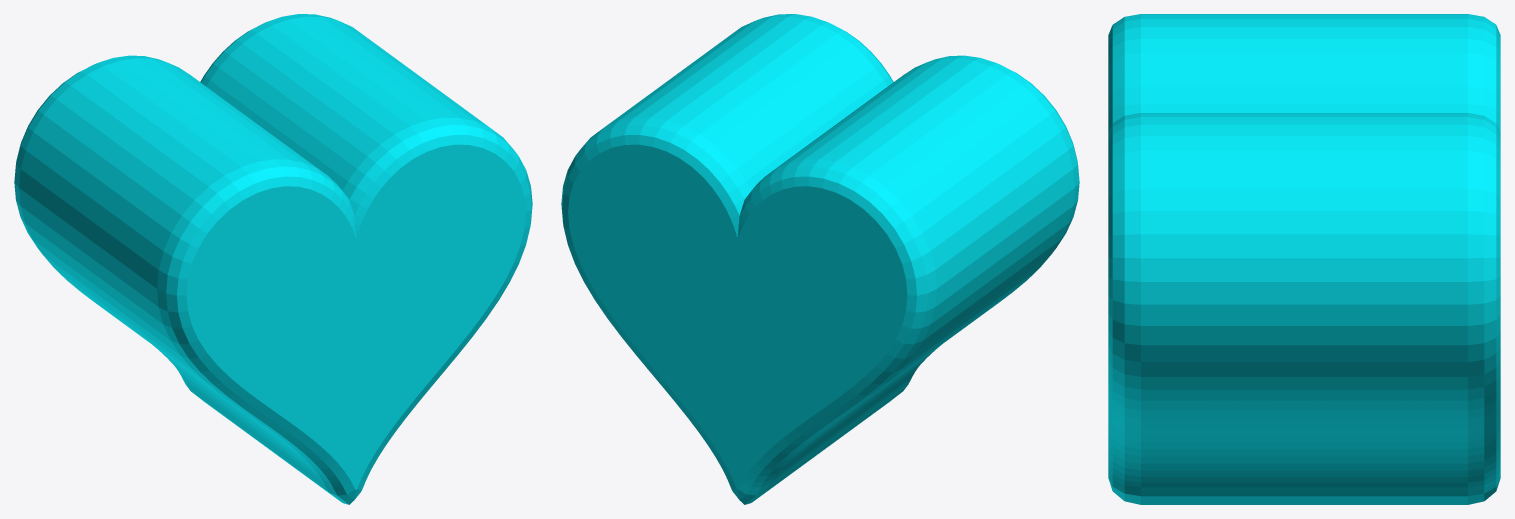
Rendered from 1773367707825-Extruded_Form.glb.
The picture shows the model from 3 angles, left to right: view 1: azimuth 30°, elevation 25°; view 2: azimuth 150°, elevation 25°; view 3: azimuth 270°, elevation 25°; orthographic projection. The views are drawn at different scales.
Size of the model in its own units: 2.71 by 2.52 by 2.09.
